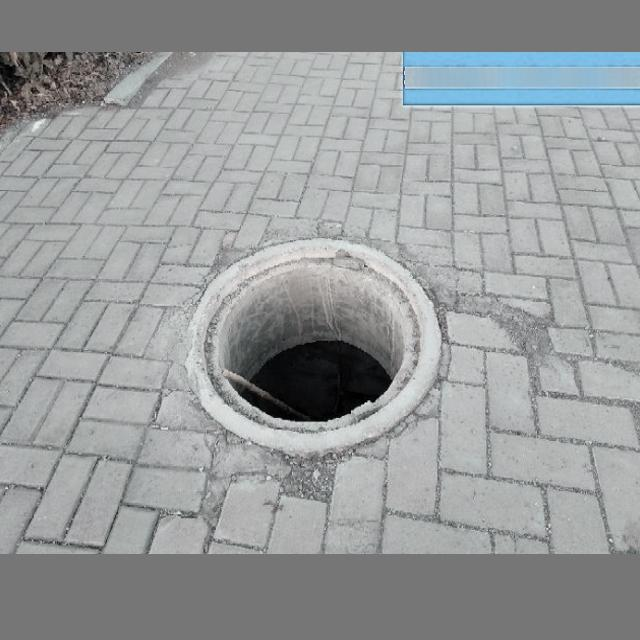lose: (189, 235, 443, 432)
